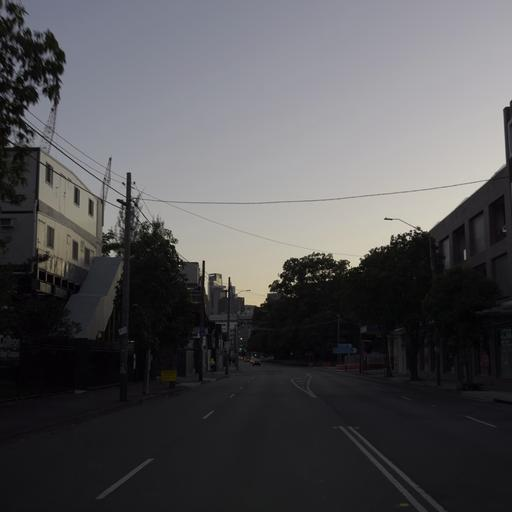Street light: (383, 215, 442, 385), (383, 215, 434, 274), (227, 287, 251, 369), (383, 215, 421, 233)
